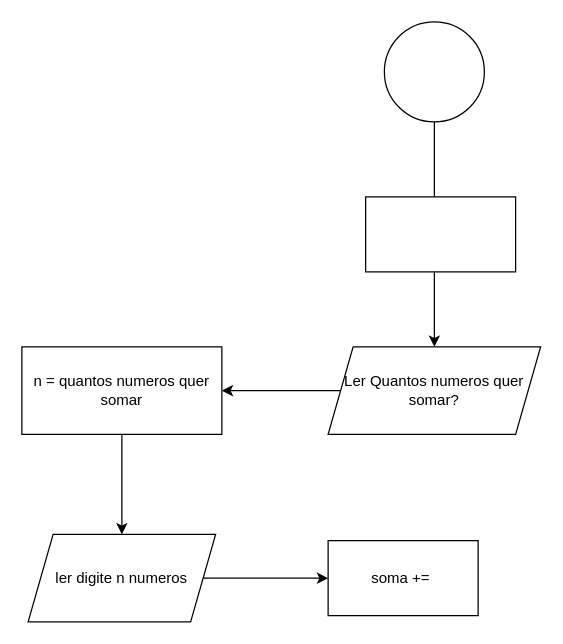
Some shapes in this 563 by 644 pixel diagram are drawn without their labels. The shapes that lost their labels are listed below. From the top down, each one's centre as x and y in pixels, then its label:
At point (433, 71): "Inicio".
At point (440, 234): "soma = 0 count += 0".
